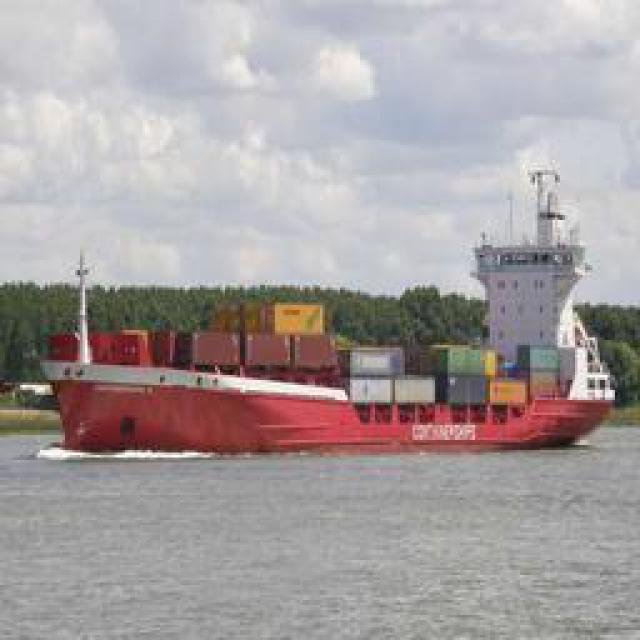Ship: (30, 256, 610, 461)
